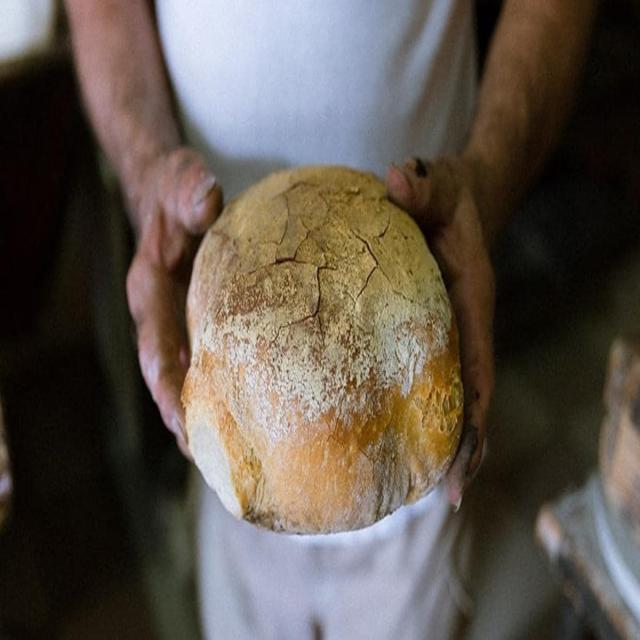Maltese-Bread: (181, 167, 463, 534)
